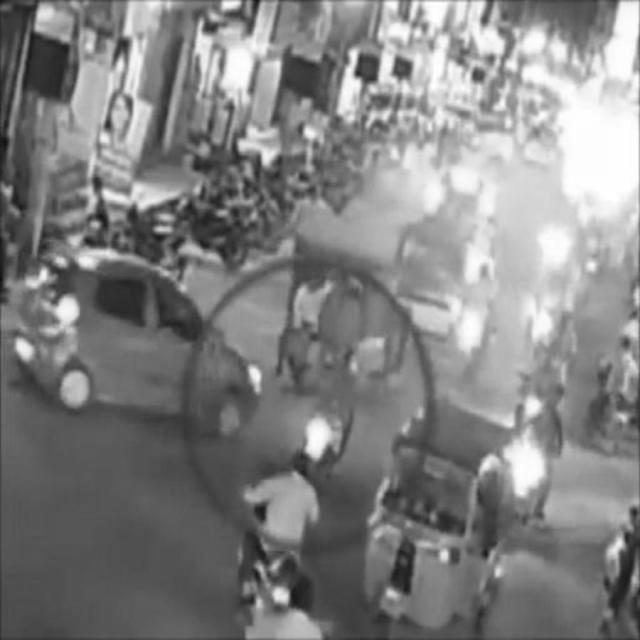vehicle: (16, 240, 264, 440), (364, 401, 518, 632), (283, 222, 404, 394), (242, 455, 336, 637), (299, 345, 369, 476)
